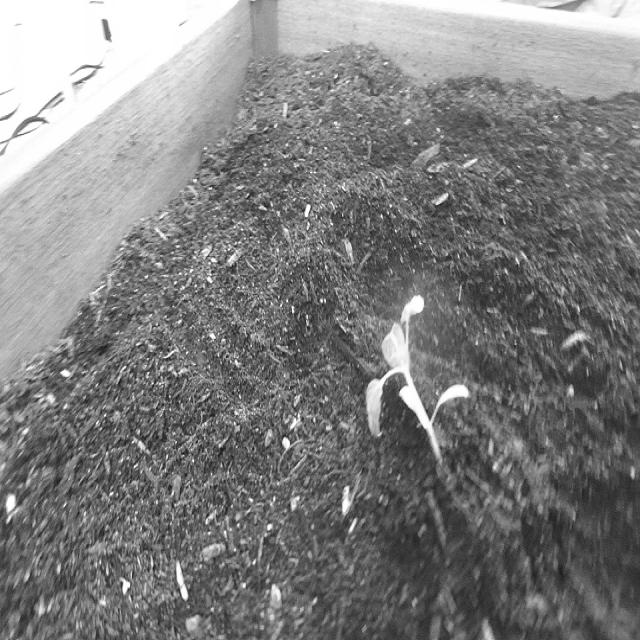Healthy: (361, 289, 474, 472)
